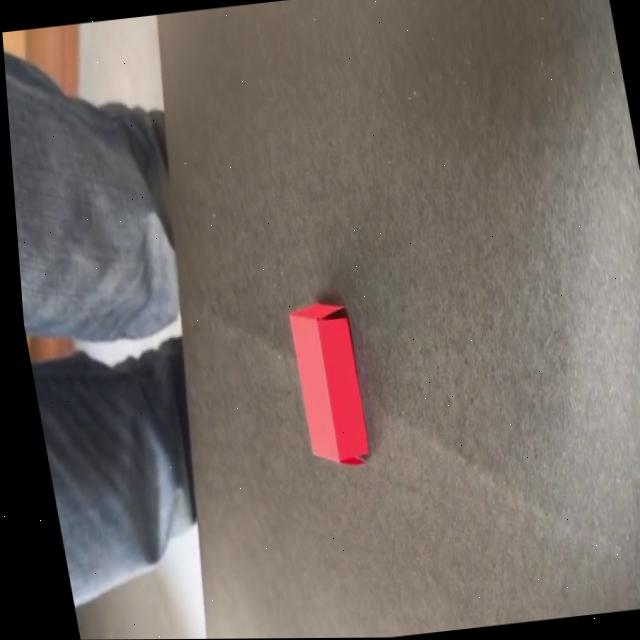red block: (282, 300, 374, 473)
